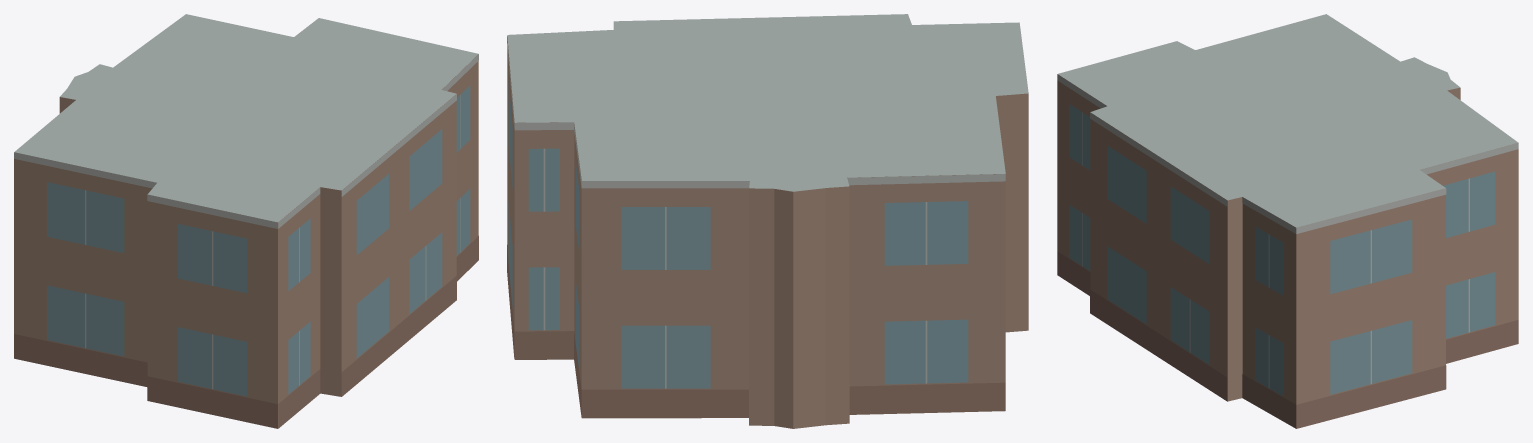
Rendered from survey-upis-32619290.glb.
The picture shows the model from 3 angles, left to right: view 1: azimuth 30°, elevation 25°; view 2: azimuth 150°, elevation 25°; view 3: azimuth 270°, elevation 25°; orthographic projection. The views are drawn at different scales.
Visible parts, largest first — view 1: survey-upis-32619290.tmp; view 2: survey-upis-32619290.tmp; view 3: survey-upis-32619290.tmp.
Boxes of the visible parts, left/top/right/bottom form: survey-upis-32619290.tmp: left=14, top=14, right=478, bottom=428; survey-upis-32619290.tmp: left=507, top=14, right=1028, bottom=428; survey-upis-32619290.tmp: left=1057, top=14, right=1518, bottom=428.
Bounding box in the file's own units: 17.32 × 7.6 × 15.8.
